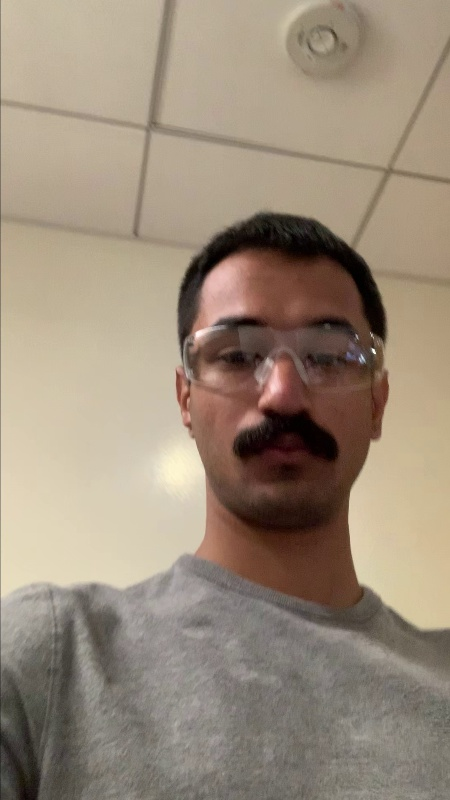glasses: (176, 319, 390, 397)
